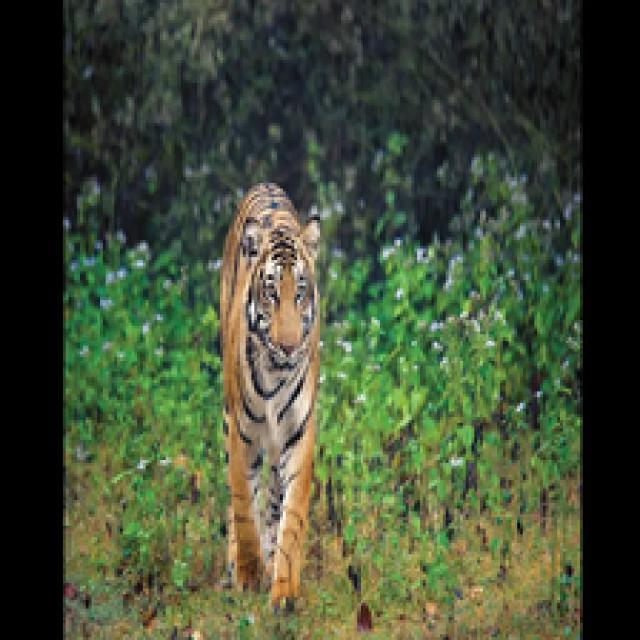tiger: (195, 170, 337, 592)
